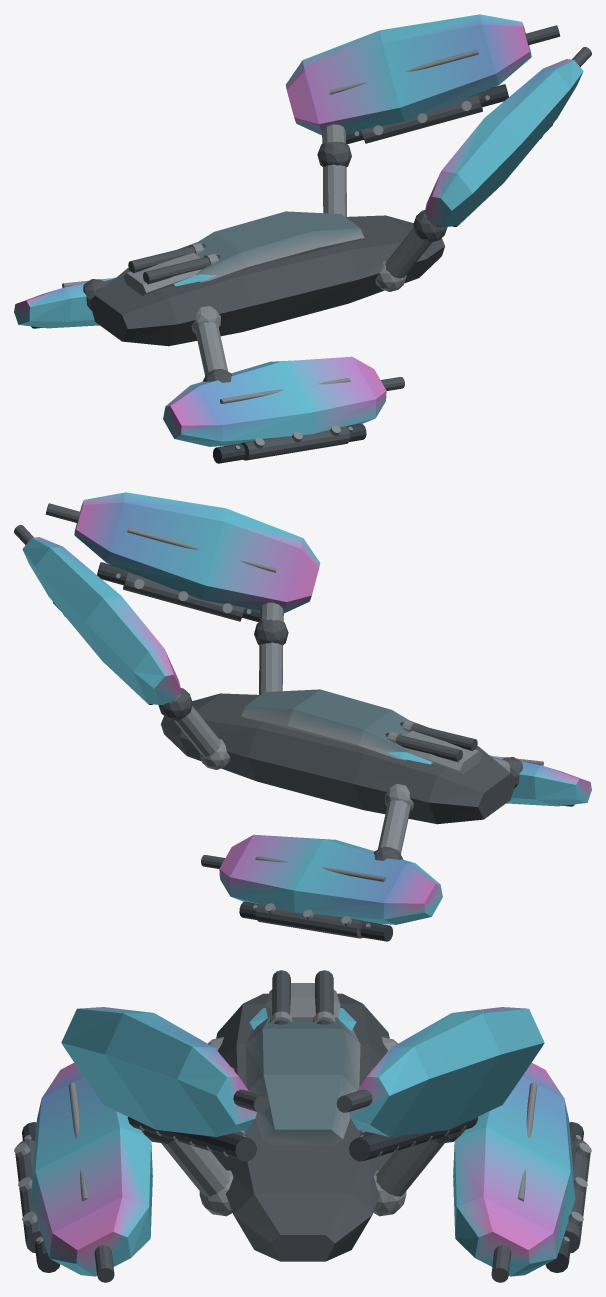
The model's file is x5_neon_attack_off.glb.
3 views of the same model, one above another, from view 1: azimuth 30°, elevation 25°; view 2: azimuth 150°, elevation 25°; view 3: azimuth 270°, elevation 25° (orthographic). The views are drawn at different scales.
Parts seen in each view (by area): view 1: pod_armor_10, center_hull_0, cabin_base_1, mechanical_arms_8, pod_mechanics_13, outer_joint_9, missile_body_3, inner_drive_rail_15, launcher_saddle_2, pod_rail_11, inner_joint_7, forward_gun_12; view 2: pod_armor_10, center_hull_0, cabin_base_1, mechanical_arms_8, pod_mechanics_13, outer_joint_9, missile_body_3, inner_drive_rail_15, launcher_saddle_2, pod_rail_11, inner_joint_7, forward_gun_12; view 3: pod_armor_10, center_hull_0, cabin_base_1, inner_drive_rail_15, mechanical_arms_8, pod_mechanics_13, forward_gun_12, missile_body_3, inner_joint_7, launcher_saddle_2, pod_rail_11, mechanical_crossbeam_14 (+1 smaller).
Part boxes in pixels (box(x1,y1,x2,y2)): pod_armor_10: box(14, 14, 583, 446); center_hull_0: box(89, 215, 444, 346); cabin_base_1: box(196, 211, 364, 282); mechanical_arms_8: box(95, 124, 442, 376); pod_mechanics_13: box(241, 94, 482, 460); outer_joint_9: box(83, 141, 447, 382); missile_body_3: box(128, 244, 218, 284); inner_drive_rail_15: box(31, 84, 552, 463); launcher_saddle_2: box(123, 252, 201, 295); pod_rail_11: box(62, 49, 478, 403); inner_joint_7: box(191, 260, 406, 333); forward_gun_12: box(380, 25, 591, 390); pod_armor_10: box(22, 492, 591, 924); center_hull_0: box(161, 693, 516, 824); cabin_base_1: box(241, 689, 410, 760); mechanical_arms_8: box(163, 602, 510, 854); pod_mechanics_13: box(123, 572, 364, 938); outer_joint_9: box(158, 619, 522, 860); missile_body_3: box(387, 722, 477, 762); inner_drive_rail_15: box(53, 562, 574, 941); launcher_saddle_2: box(405, 730, 482, 773); pod_rail_11: box(127, 527, 543, 881); inner_joint_7: box(199, 738, 413, 811); forward_gun_12: box(14, 503, 225, 868); pod_armor_10: box(30, 1007, 575, 1276); center_hull_0: box(212, 993, 393, 1261); cabin_base_1: box(245, 1017, 360, 1145); inner_drive_rail_15: box(22, 1117, 583, 1272); mechanical_arms_8: box(161, 1140, 444, 1196); pod_mechanics_13: box(15, 1131, 590, 1253); forward_gun_12: box(94, 1089, 511, 1282); missile_body_3: box(272, 970, 333, 1023); inner_joint_7: box(199, 1037, 406, 1216); launcher_saddle_2: box(265, 983, 340, 1020); pod_rail_11: box(68, 1067, 537, 1201); mechanical_crossbeam_14: box(14, 1130, 591, 1226).
Bounding box in the file's own units: 6.03 × 3.3 × 4.32.
